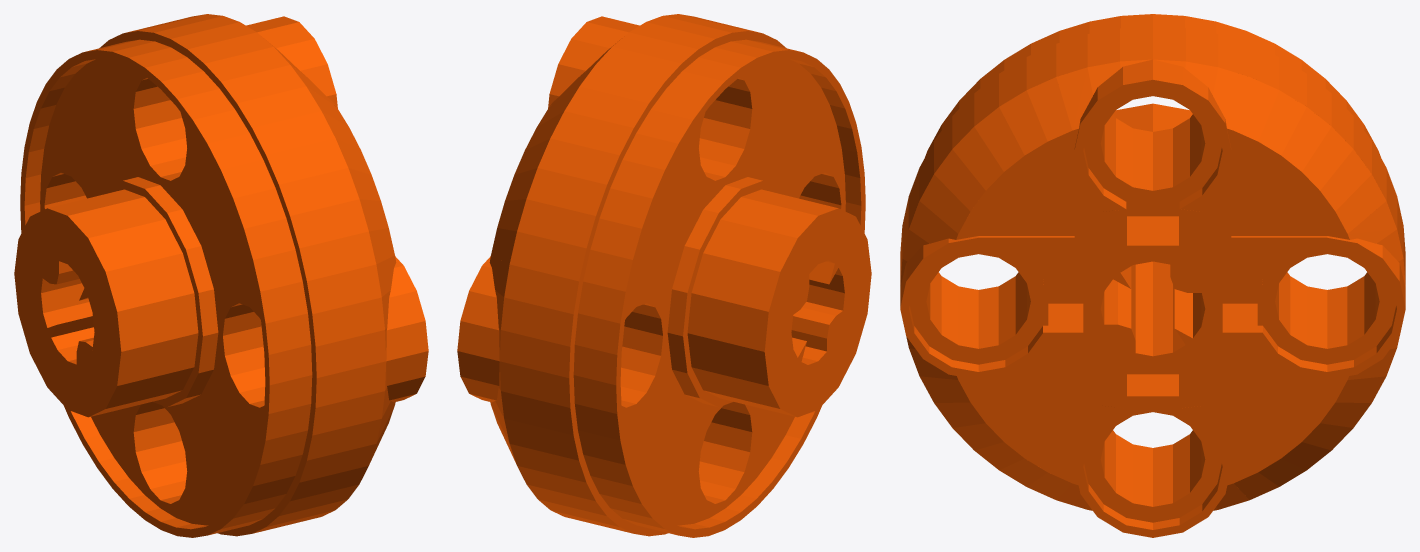
File: servo_hub.dae
3 renders of one model, left to right at view 1: azimuth 30°, elevation 25°; view 2: azimuth 150°, elevation 25°; view 3: azimuth 270°, elevation 25°, orthographic. The views are drawn at different scales.
Parts seen in each view (by area): view 1: node; view 2: node; view 3: node.
Part boxes in pixels (box(x1,y1,x2,y2)): node: box(14, 14, 428, 537); node: box(457, 14, 871, 537); node: box(900, 14, 1405, 537).
Size of the model in its own units: 30 by 58 by 58.
1 material, 1 textured.
